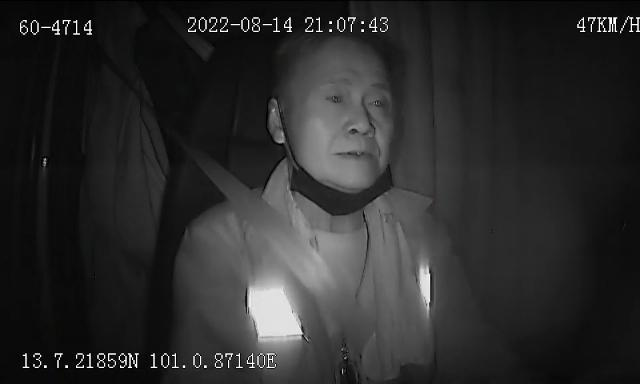SafeDriving: (320, 80, 353, 110), (362, 85, 394, 115)
Seatbelt: (192, 153, 374, 334)
